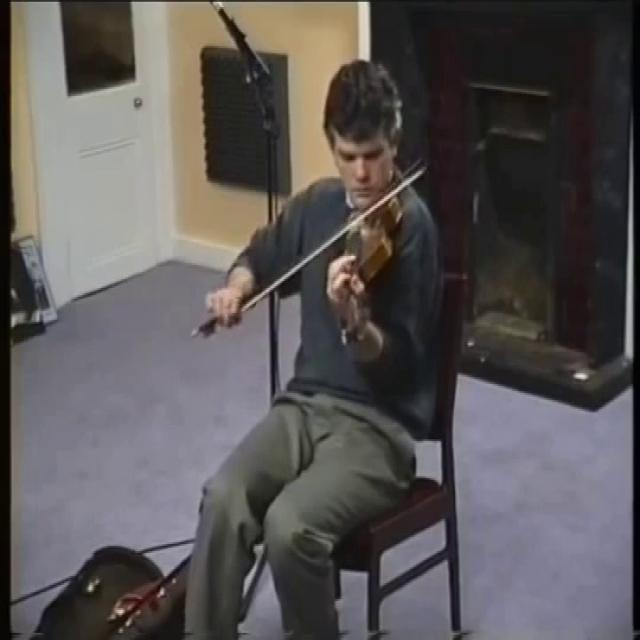Violin: (337, 200, 400, 344)
